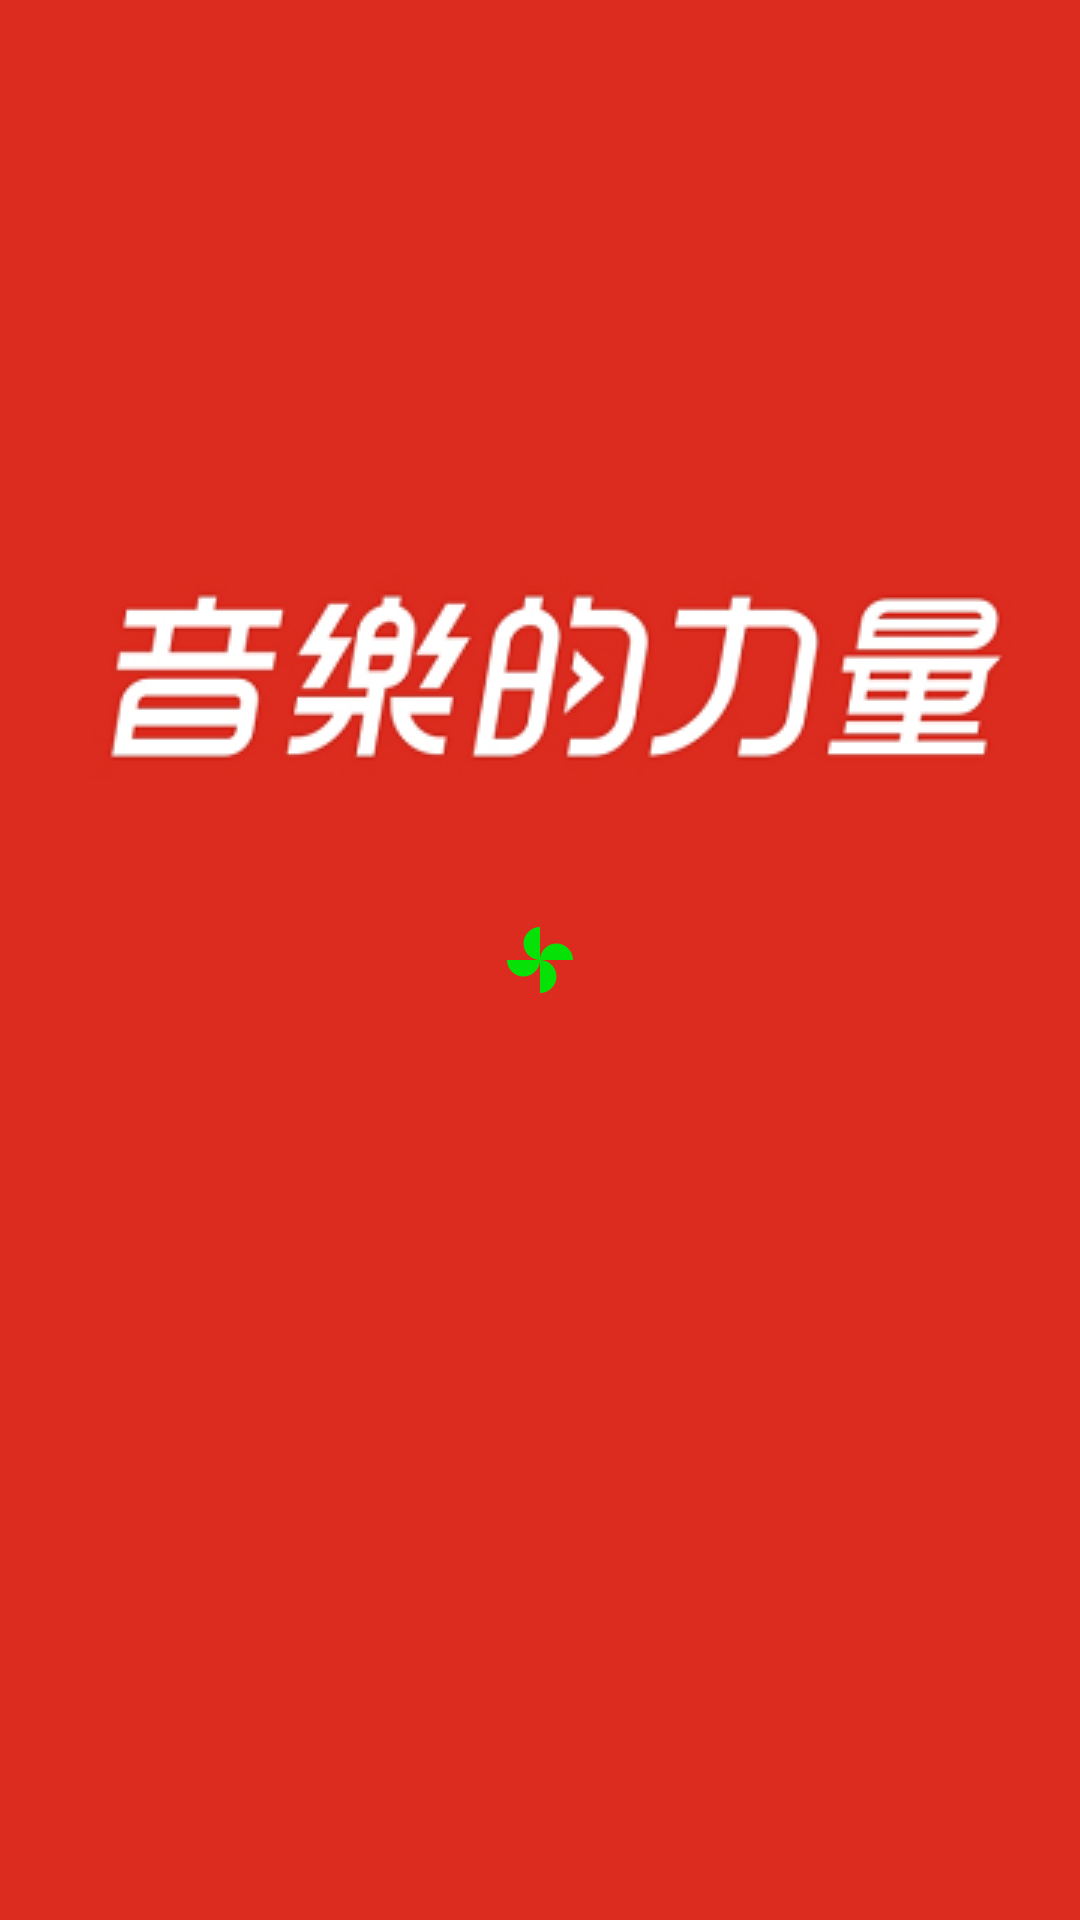

Named icons in this screenshot (1080w x 1920h) and their bounding boxes, (x1, y1, x2, y2):
toys: (507, 927, 573, 993)
